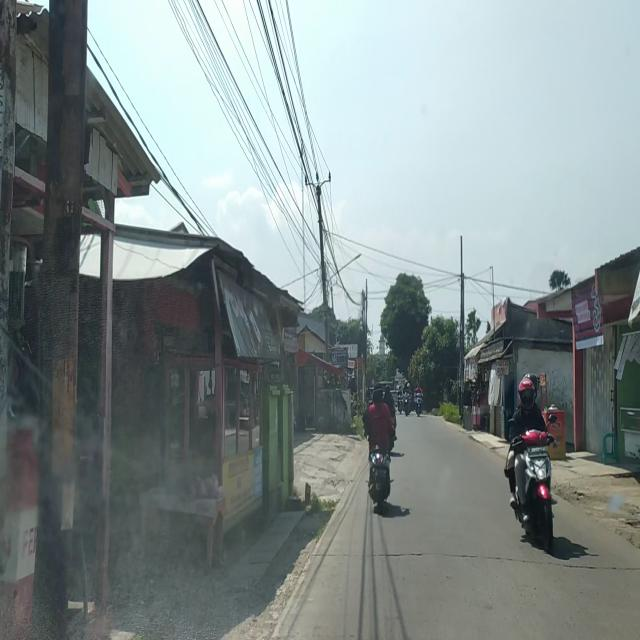Sewer Cover: (309, 549, 640, 575)
